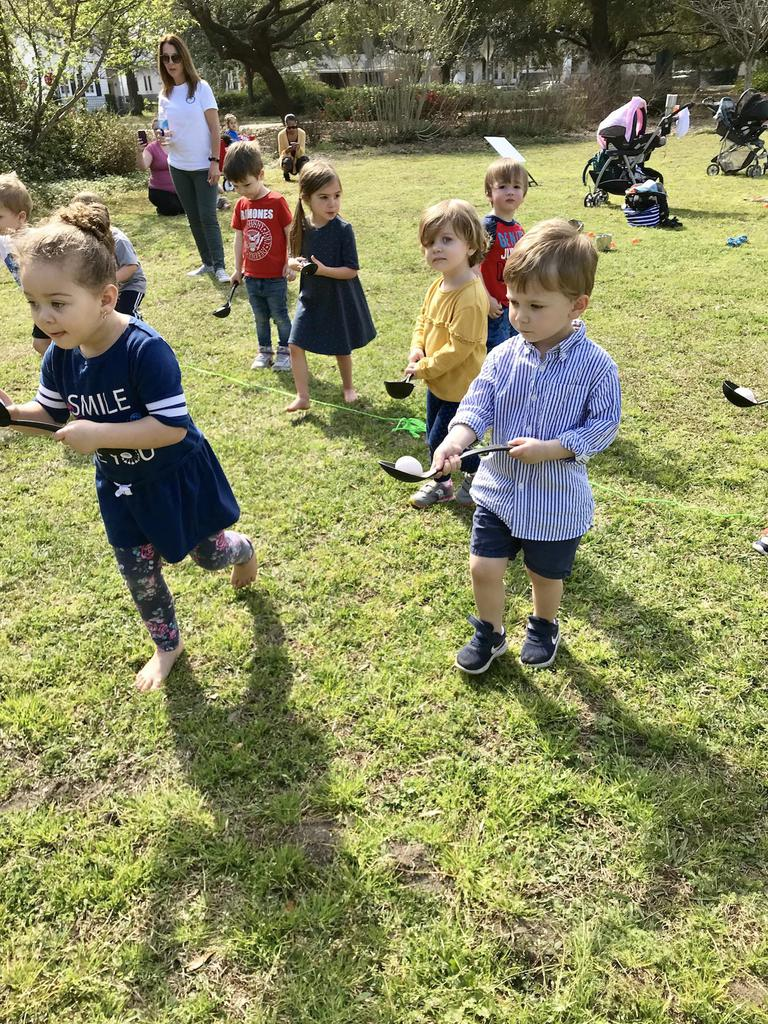child: (10, 214, 274, 687), (409, 214, 603, 697), (262, 160, 384, 414), (379, 186, 479, 477), (189, 136, 300, 372), (461, 151, 546, 318)
